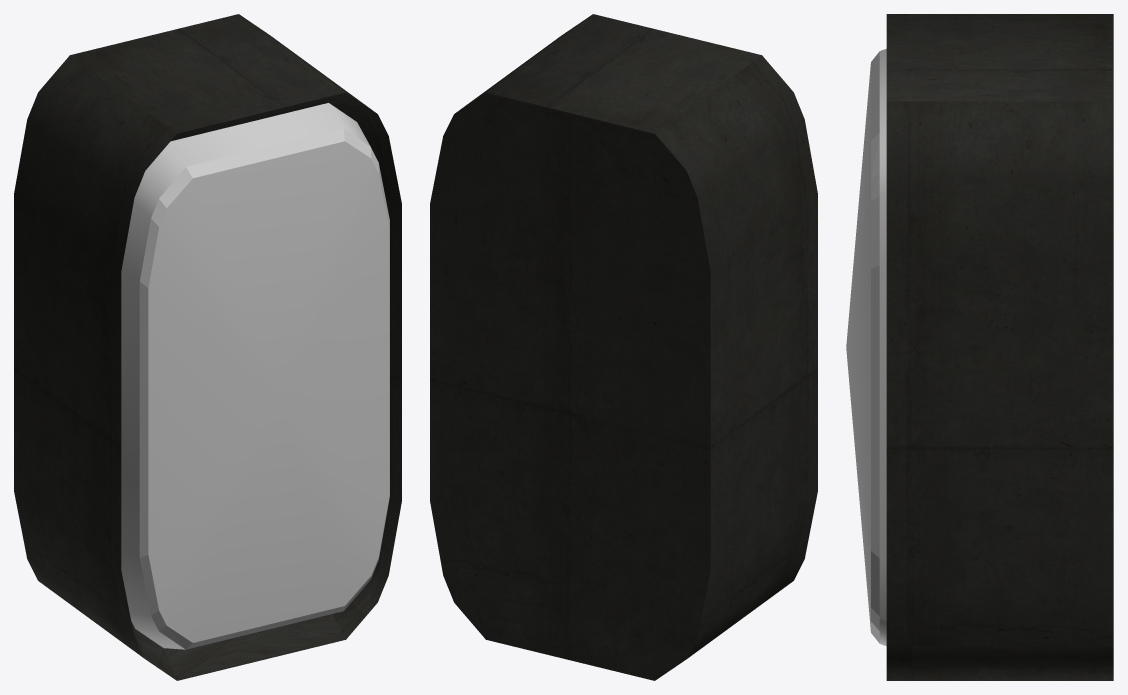
File: SM_Prop_Light_02.FBX
3 views of the same model, side by side, from view 1: azimuth 30°, elevation 25°; view 2: azimuth 150°, elevation 25°; view 3: azimuth 270°, elevation 25° (orthographic). The views are drawn at different scales.
Parts seen in each view (by area): view 1: SM_Prop_Light_02; view 2: SM_Prop_Light_02; view 3: SM_Prop_Light_02.
Boxes of the visible parts, x1=… form: SM_Prop_Light_02: x1=14, y1=14, x2=401, y2=680; SM_Prop_Light_02: x1=430, y1=14, x2=817, y2=680; SM_Prop_Light_02: x1=846, y1=14, x2=1113, y2=680.
Size of the model in its own units: 0.4422 by 0.824 by 0.3447.
